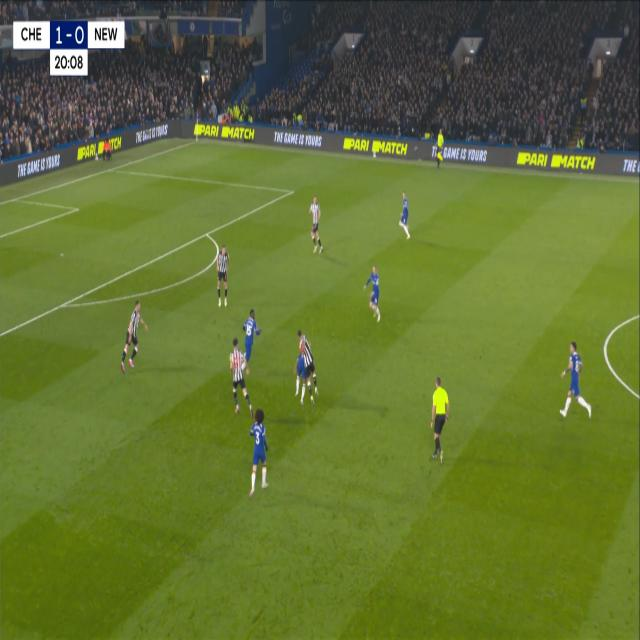Chelsea: (557, 335, 593, 424), (246, 404, 272, 500), (240, 304, 263, 372), (362, 260, 384, 326), (397, 189, 411, 243)
New castle: (118, 295, 150, 378), (227, 334, 256, 421), (296, 325, 321, 402), (214, 239, 232, 312), (307, 190, 324, 254)
Refree: (428, 371, 452, 466)
